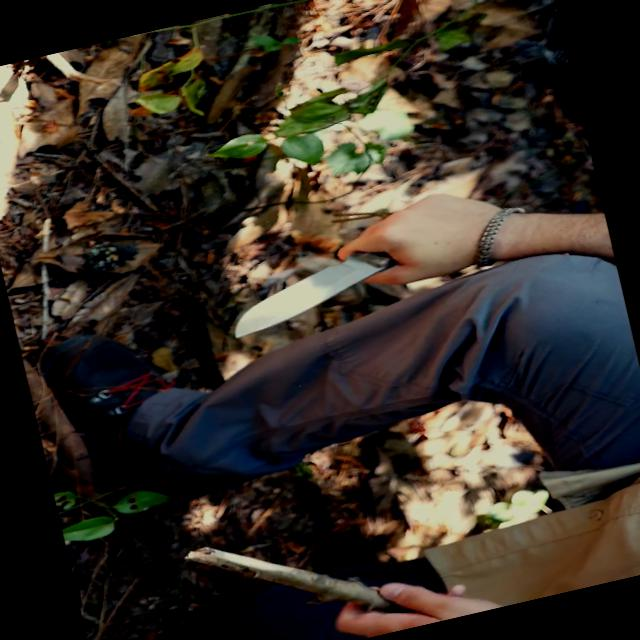knife: (200, 190, 463, 346)
